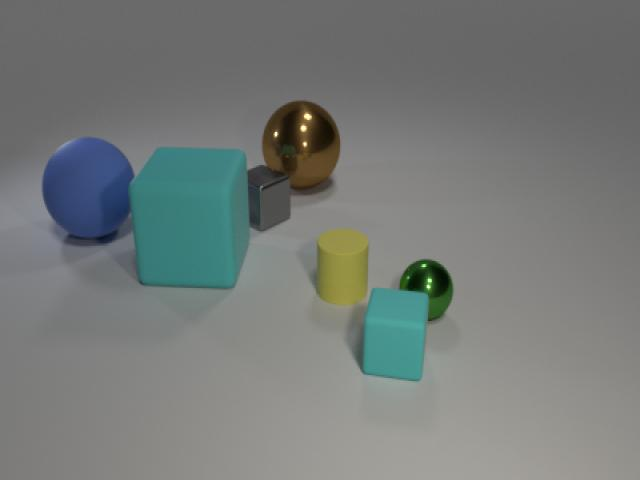cylinder: (313, 223, 372, 310)
round ball: (39, 129, 139, 244), (260, 95, 344, 194), (394, 253, 456, 326)
